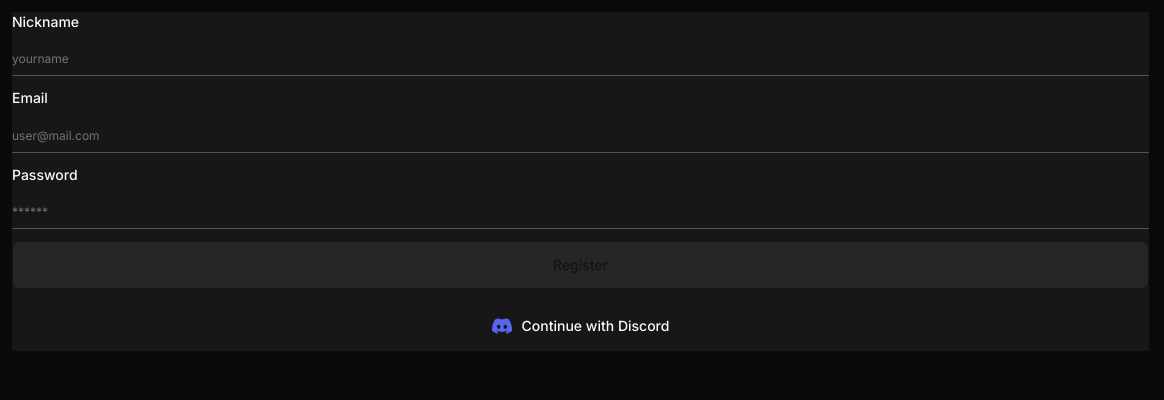
RegisterForm › shows an inline field error on invalid nickname characters without submitting
The image size is (1164, 400).
Type "jan kowalski" into the field labelled "Nickname" at (580, 60), box [12,43,1149,76]
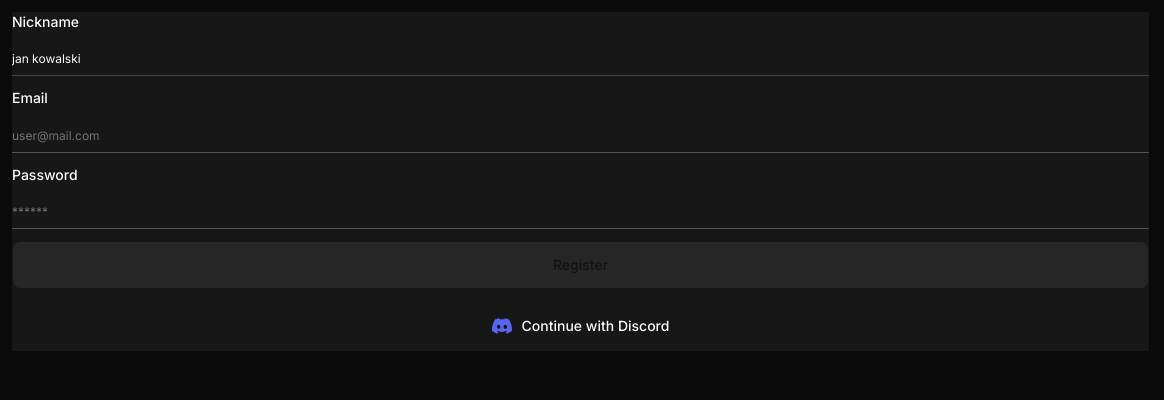
Press Tab
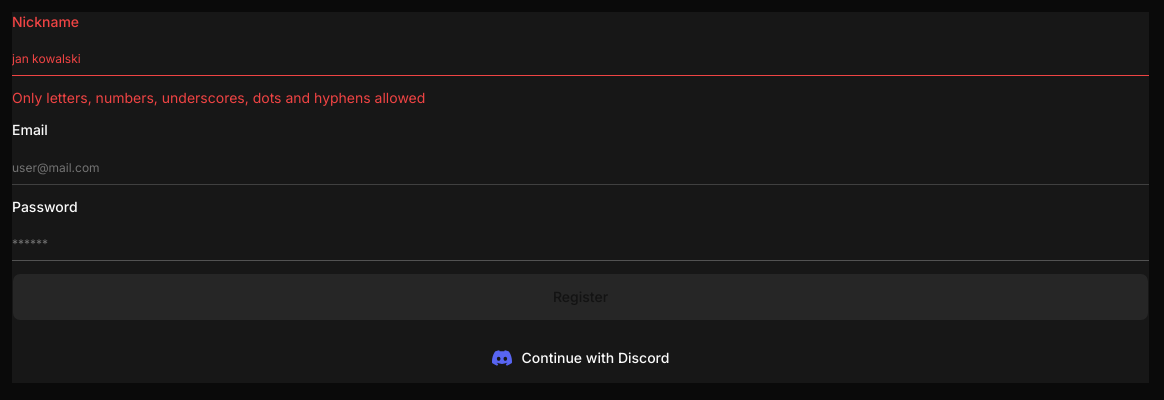
Result: the text "Only letters, numbers, underscores, dots and hyphens allowed" is shown at [12,89,425,106]
